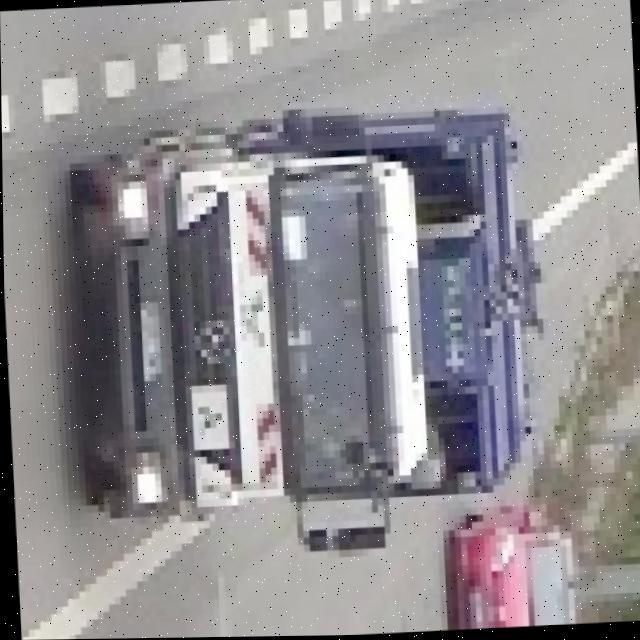truck: (66, 91, 546, 564)
